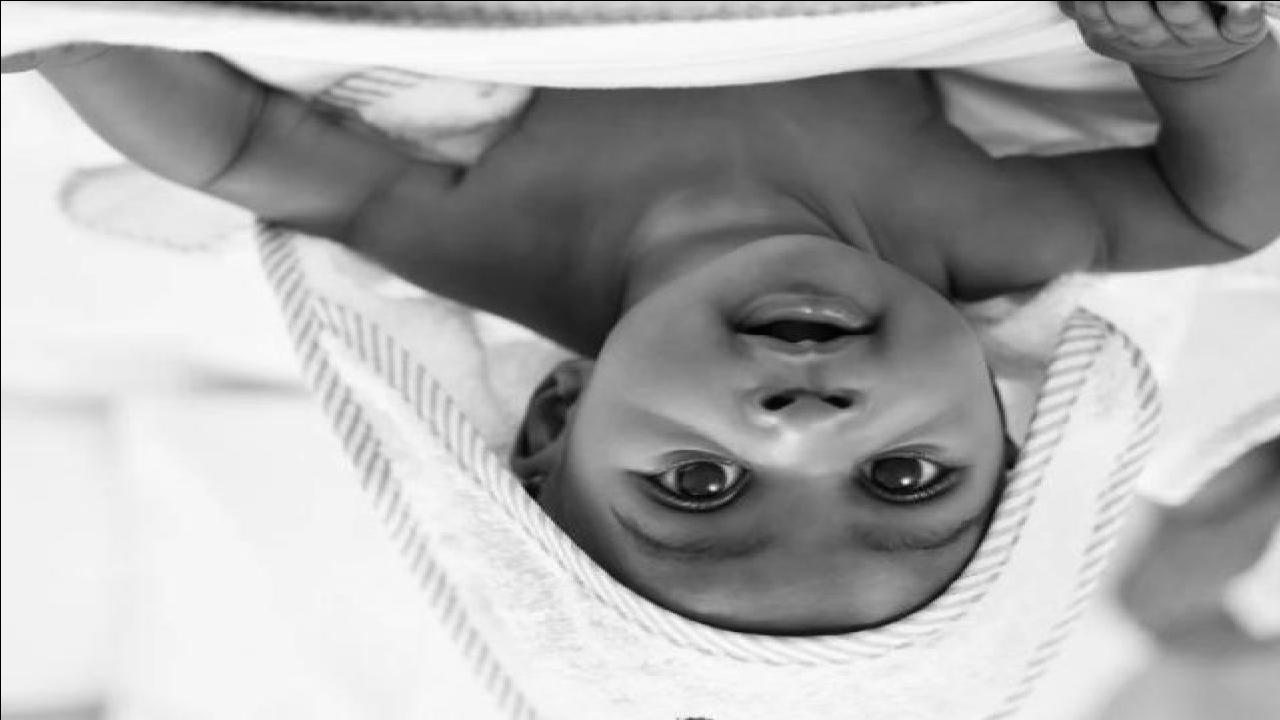hand: (1054, 1, 1280, 68)
